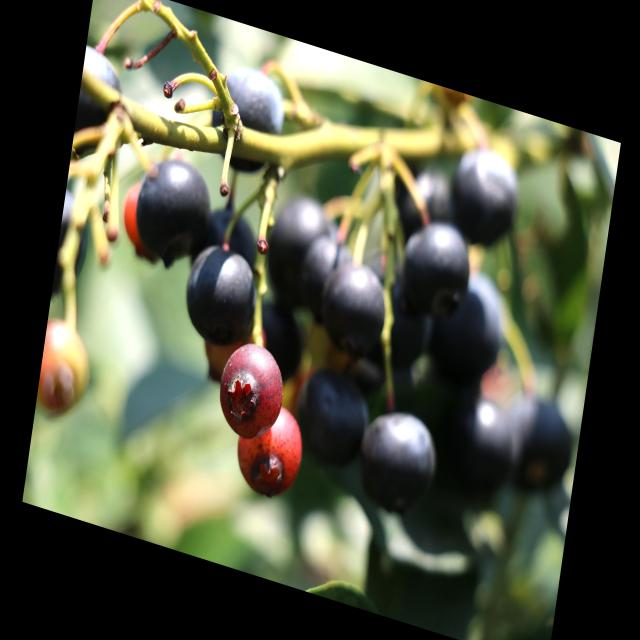blueberry: (294, 224, 393, 360), (426, 256, 512, 400), (129, 148, 218, 276), (502, 373, 584, 509), (353, 395, 444, 515), (206, 58, 294, 181), (440, 388, 520, 508), (258, 186, 329, 320), (181, 235, 264, 349), (292, 358, 369, 471), (446, 142, 522, 254), (397, 210, 475, 316), (72, 48, 136, 160)
blueberry-halfripe: (212, 331, 290, 448), (227, 391, 307, 502), (35, 318, 98, 426)
